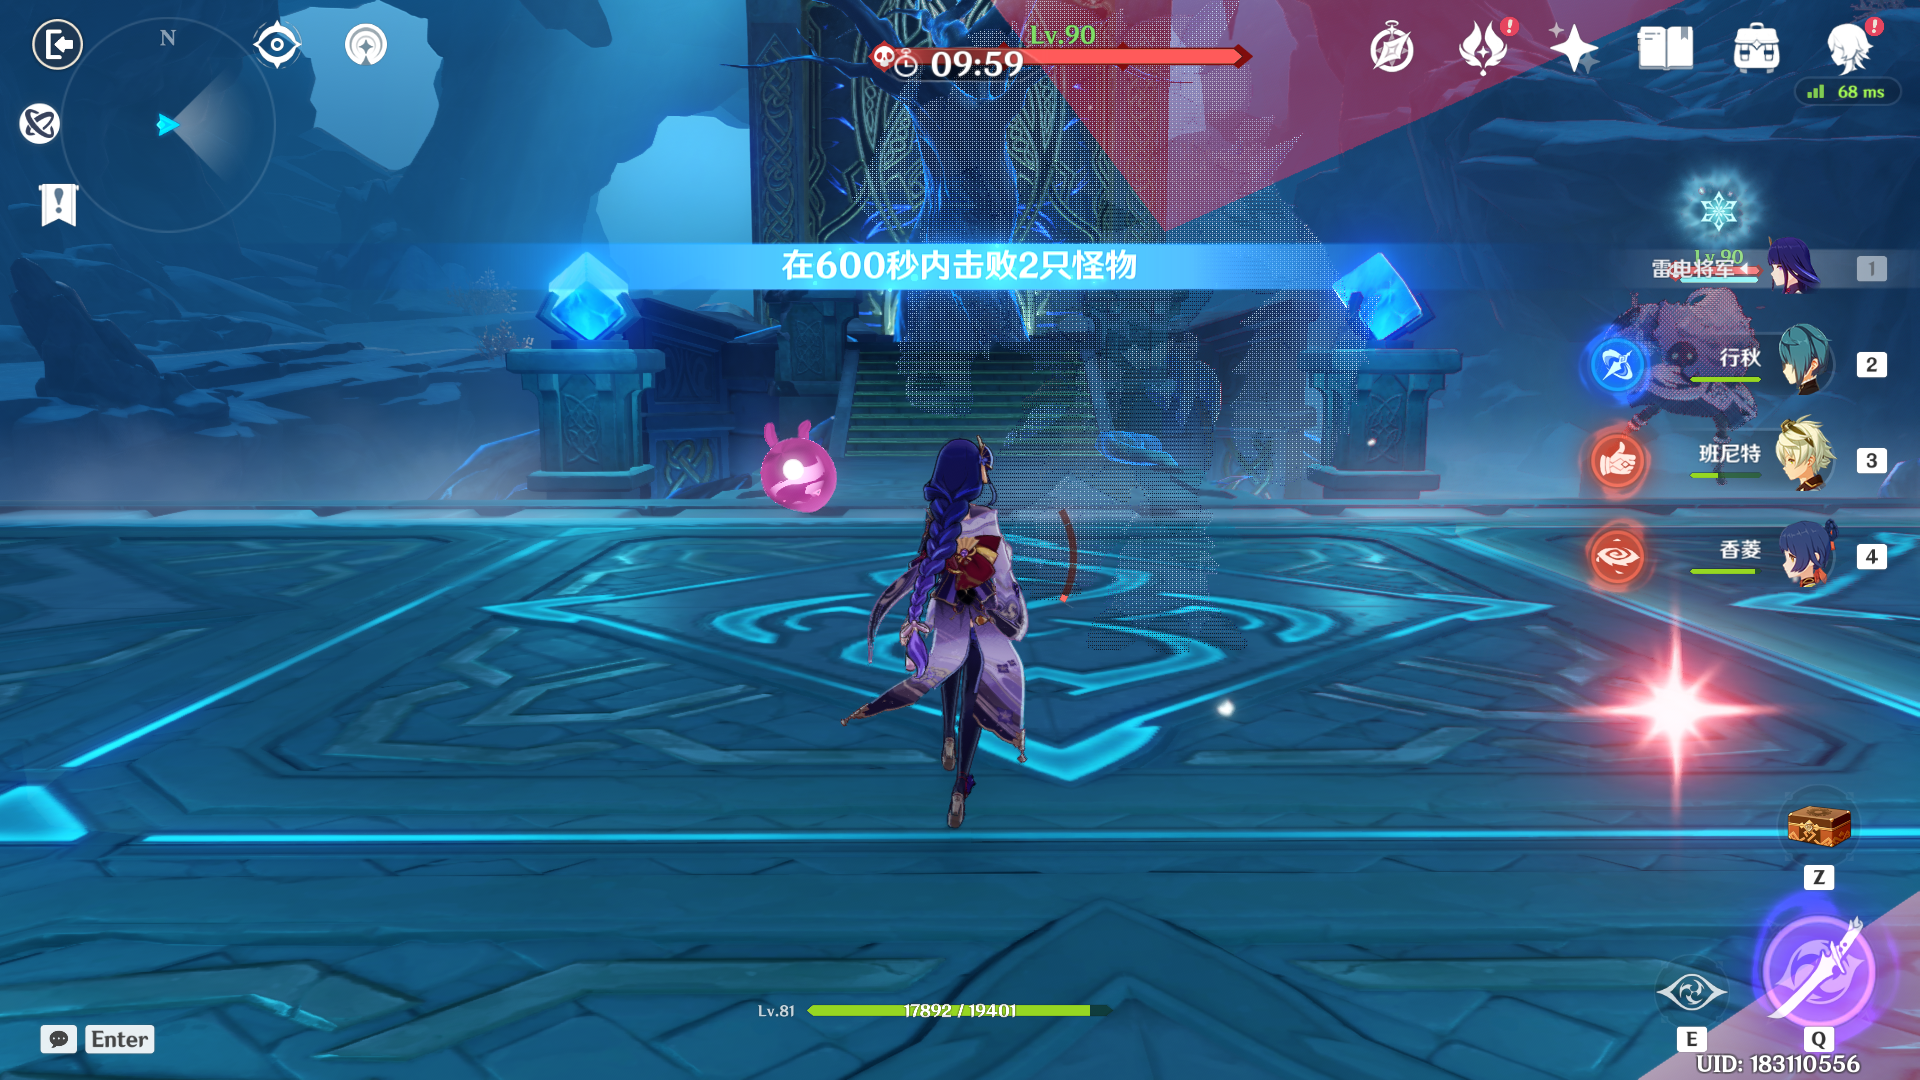character: (855, 404, 1101, 845)
